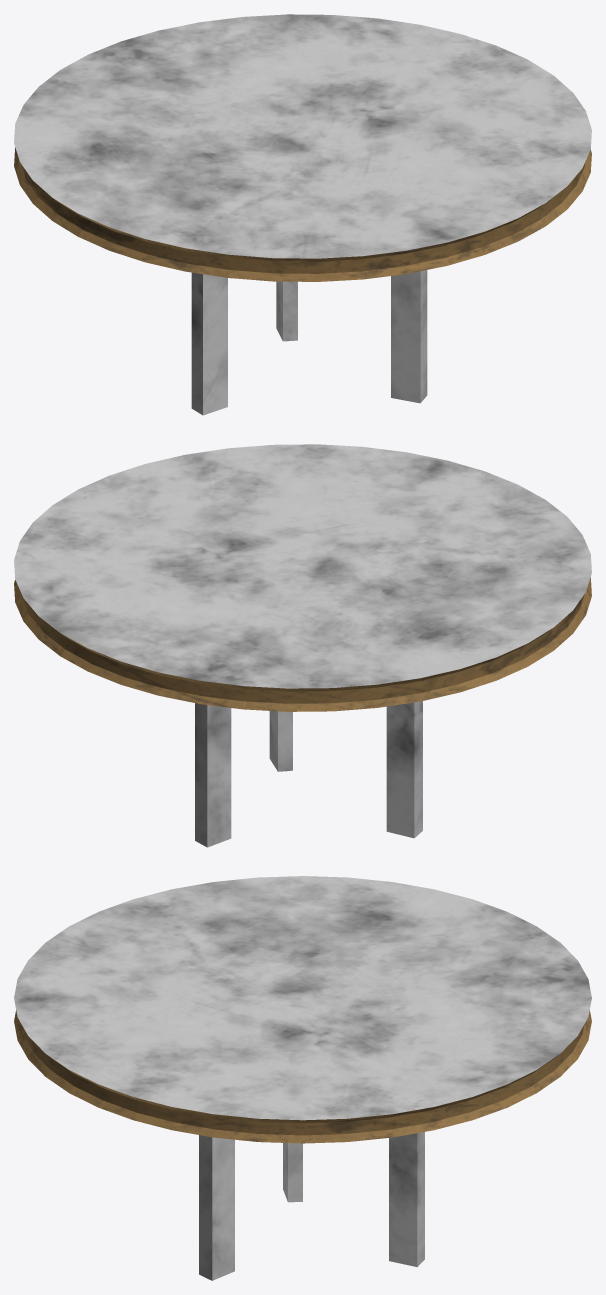
The model's file is CoffeeTable.fbx.
3 renders of one model, top to bottom at view 1: azimuth 30°, elevation 25°; view 2: azimuth 150°, elevation 25°; view 3: azimuth 270°, elevation 25°, orthographic.
Visible parts, largest first — view 1: Cylinder001; view 2: Cylinder001; view 3: Cylinder001.
Boxes of the visible parts, x1,y1,x2,y2 form: Cylinder001: [14, 14, 591, 415]; Cylinder001: [14, 444, 591, 847]; Cylinder001: [14, 876, 591, 1280].
Bounding box in the file's own units: 90 × 42 × 90.
